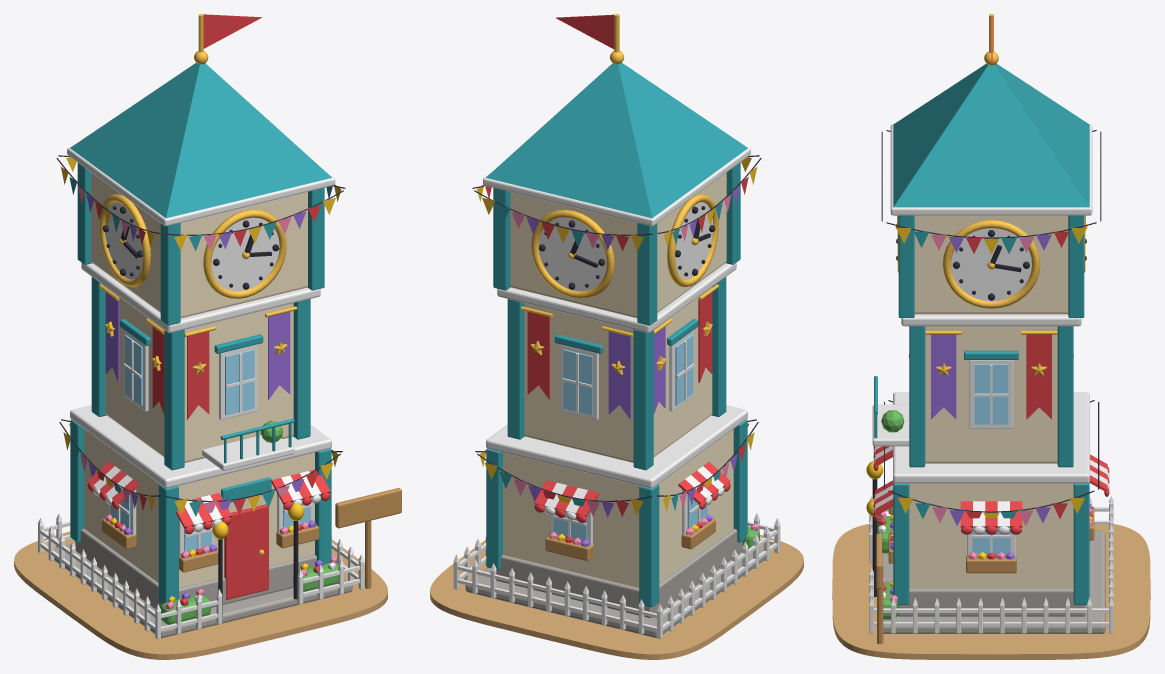
Rendered from clock-tower-stage-5.f2bf2c81.glb.
3 views of the same model, side by side, from view 1: azimuth 30°, elevation 25°; view 2: azimuth 150°, elevation 25°; view 3: azimuth 270°, elevation 25° (orthographic). The views are drawn at different scales.
Visible parts, largest first — view 1: ClockTower_Stage5__T_teal, ClockTower_Stage5__T_cream, ClockTower_Stage5__T_white, ClockTower_Stage5__T_dirt, ClockTower_Stage5__T_red, ClockTower_Stage5__T_stone, ClockTower_Stage5__T_gold, ClockTower_Stage5__T_wood, ClockTower_Stage5__T_purple, ClockTower_Stage5__T_glass, ClockTower_Stage5__T_dark, ClockTower_Stage5__T_yellow (+2 smaller); view 2: ClockTower_Stage5__T_teal, ClockTower_Stage5__T_cream, ClockTower_Stage5__T_white, ClockTower_Stage5__T_dirt, ClockTower_Stage5__T_stone, ClockTower_Stage5__T_red, ClockTower_Stage5__T_gold, ClockTower_Stage5__T_purple, ClockTower_Stage5__T_glass, ClockTower_Stage5__T_dark, ClockTower_Stage5__T_yellow, ClockTower_Stage5__T_wood (+1 smaller); view 3: ClockTower_Stage5__T_teal, ClockTower_Stage5__T_cream, ClockTower_Stage5__T_white, ClockTower_Stage5__T_dirt, ClockTower_Stage5__T_stone, ClockTower_Stage5__T_red, ClockTower_Stage5__T_gold, ClockTower_Stage5__T_purple, ClockTower_Stage5__T_glass, ClockTower_Stage5__T_dark, ClockTower_Stage5__T_wood, ClockTower_Stage5__T_yellow (+2 smaller).
Part boxes in pixels (x1,y1,x2,y2): ClockTower_Stage5__T_teal: (69, 63, 332, 603); ClockTower_Stage5__T_cream: (84, 172, 314, 587); ClockTower_Stage5__T_white: (37, 147, 364, 639); ClockTower_Stage5__T_dirt: (14, 531, 387, 659); ClockTower_Stage5__T_red: (87, 14, 330, 605); ClockTower_Stage5__T_stone: (54, 528, 352, 638); ClockTower_Stage5__T_gold: (99, 14, 297, 555); ClockTower_Stage5__T_wood: (102, 488, 401, 588); ClockTower_Stage5__T_purple: (86, 194, 322, 598); ClockTower_Stage5__T_glass: (110, 335, 310, 552); ClockTower_Stage5__T_dark: (56, 155, 345, 616); ClockTower_Stage5__T_yellow: (61, 157, 341, 602); ClockTower_Stage5__T_teal: (486, 63, 747, 607); ClockTower_Stage5__T_cream: (503, 173, 733, 587); ClockTower_Stage5__T_white: (453, 147, 780, 639); ClockTower_Stage5__T_dirt: (430, 534, 803, 659); ClockTower_Stage5__T_stone: (465, 529, 763, 638); ClockTower_Stage5__T_red: (485, 14, 748, 542); ClockTower_Stage5__T_gold: (521, 14, 718, 374); ClockTower_Stage5__T_purple: (526, 186, 739, 546); ClockTower_Stage5__T_glass: (553, 335, 707, 541); ClockTower_Stage5__T_dark: (472, 155, 761, 501); ClockTower_Stage5__T_yellow: (476, 157, 756, 540); ClockTower_Stage5__T_wood: (545, 518, 715, 560); ClockTower_Stage5__T_teal: (874, 63, 1089, 604); ClockTower_Stage5__T_cream: (909, 215, 1073, 588); ClockTower_Stage5__T_white: (869, 124, 1113, 633); ClockTower_Stage5__T_dirt: (832, 524, 1150, 659); ClockTower_Stage5__T_stone: (882, 530, 1105, 633); ClockTower_Stage5__T_red: (873, 16, 1109, 590); ClockTower_Stage5__T_gold: (895, 14, 1087, 375); ClockTower_Stage5__T_purple: (890, 234, 1092, 594); ClockTower_Stage5__T_glass: (972, 364, 1010, 555); ClockTower_Stage5__T_dark: (872, 130, 1101, 596); ClockTower_Stage5__T_wood: (876, 506, 1094, 644); ClockTower_Stage5__T_yellow: (866, 228, 1092, 587).
Bounding box in the file's own units: 4.98 × 9.62 × 4.8.
